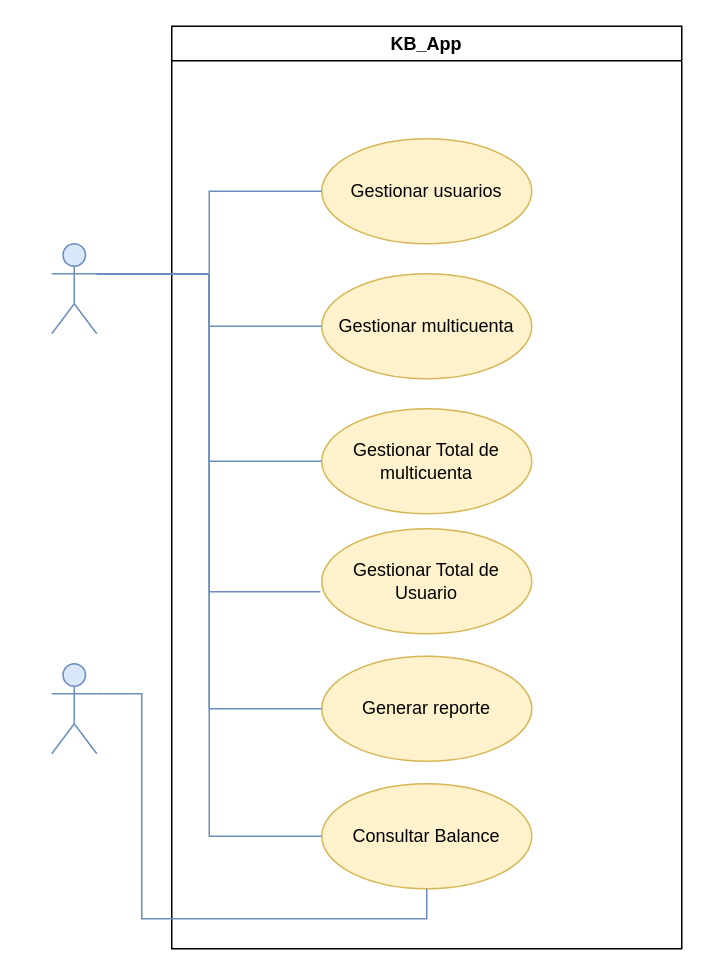
Some shapes in this 708 by 975 pixel diagram are drawn without their labels. Each missing label, with the box of its shape:
Admistrador: (50, 242, 97, 334)
Usuario: (50, 662, 97, 754)
